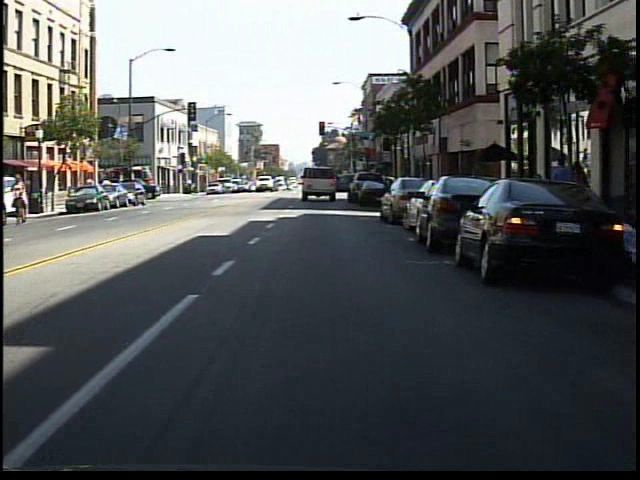person: (545, 153, 573, 233), (569, 157, 593, 228), (9, 168, 33, 230)
